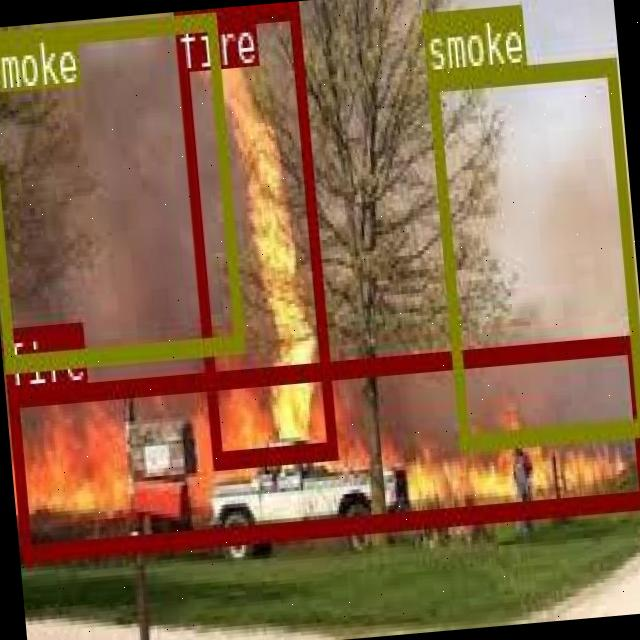fire: (6, 335, 640, 558), (172, 1, 334, 463)
smoke: (0, 9, 242, 368), (427, 56, 640, 445)
